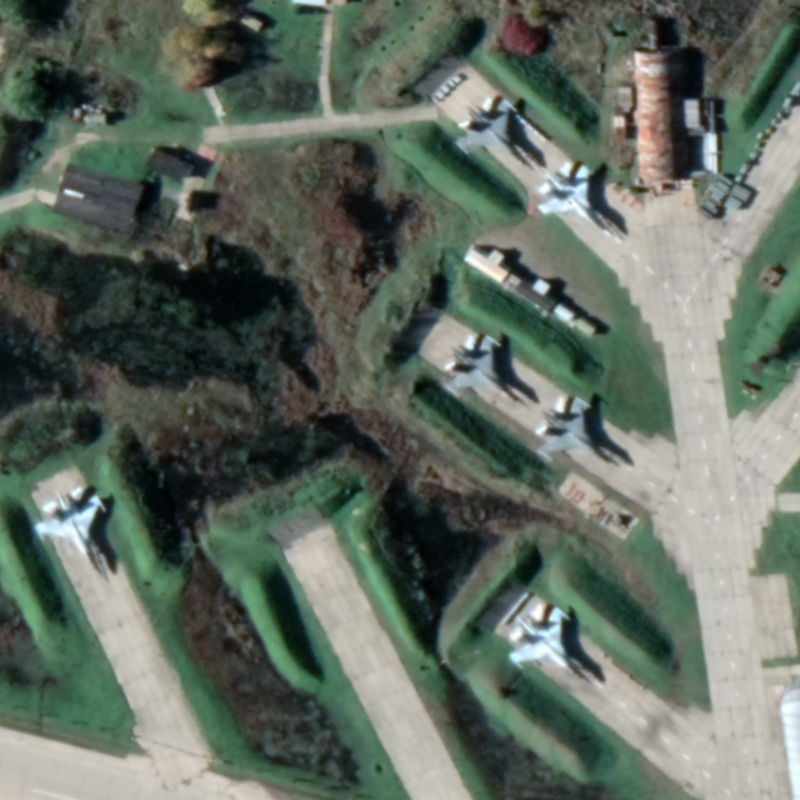A1: (31, 484, 110, 581), (505, 603, 591, 686), (533, 159, 617, 241), (438, 330, 523, 409), (532, 392, 615, 470), (453, 96, 534, 171)
